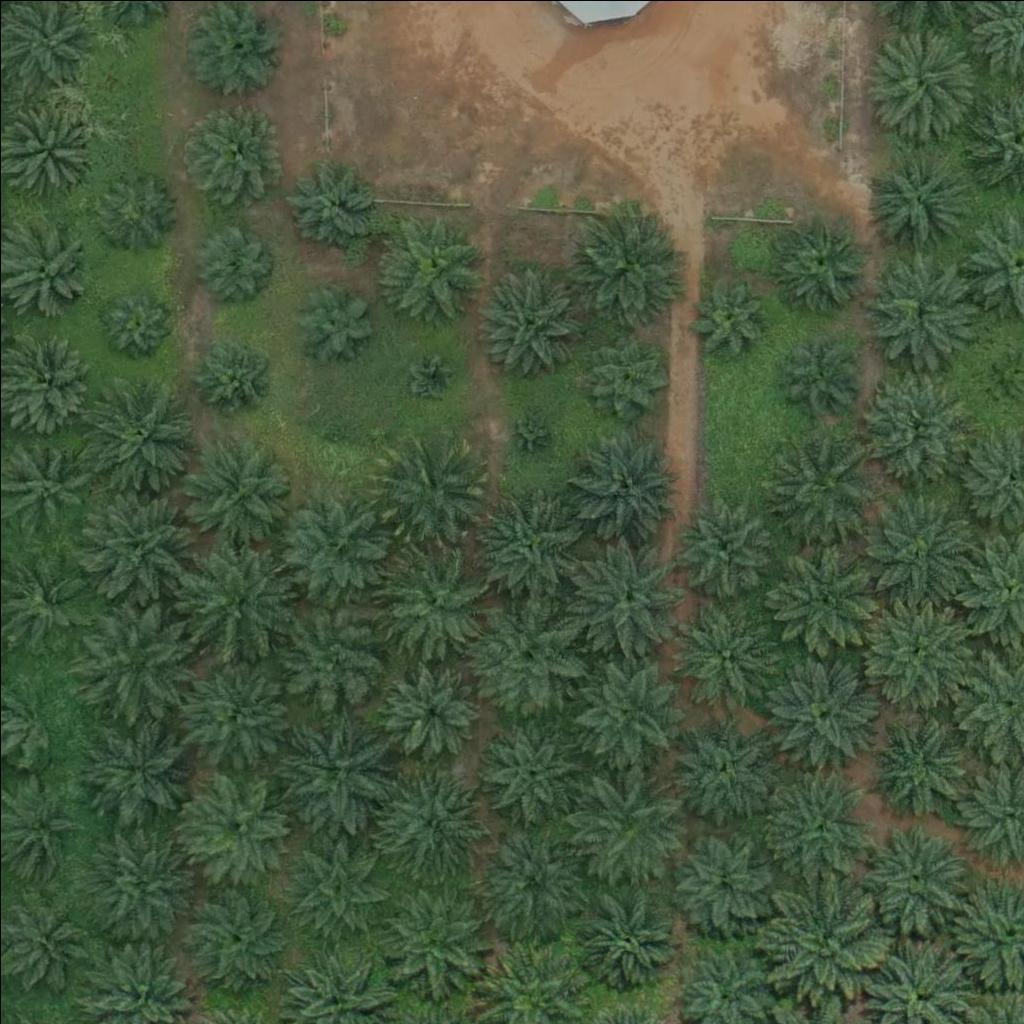Kelapa_Sawit: (375, 881, 488, 995), (83, 386, 196, 500), (180, 655, 293, 769), (183, 545, 296, 659), (282, 826, 395, 940), (280, 716, 393, 830), (372, 761, 485, 875), (858, 372, 971, 486), (767, 883, 880, 996), (178, 436, 291, 549), (276, 596, 389, 709), (568, 652, 681, 765), (568, 539, 681, 652), (565, 424, 678, 537), (670, 603, 783, 716), (854, 592, 967, 705), (860, 497, 973, 610), (864, 249, 977, 362), (860, 145, 973, 258), (860, 22, 973, 135), (565, 211, 678, 324), (80, 605, 192, 719), (78, 488, 190, 602), (374, 210, 486, 324), (375, 435, 487, 548), (477, 824, 589, 937), (180, 884, 292, 997), (81, 827, 193, 940), (82, 712, 194, 825), (182, 769, 294, 882), (272, 489, 384, 602), (377, 545, 489, 658), (477, 599, 589, 712), (473, 492, 585, 605), (574, 770, 686, 883), (762, 766, 874, 879), (765, 655, 877, 768), (760, 543, 872, 656), (761, 436, 873, 549), (855, 821, 967, 934), (473, 261, 585, 374), (672, 826, 772, 927), (572, 884, 672, 985), (380, 660, 480, 761), (478, 719, 578, 820), (672, 722, 772, 823), (671, 495, 771, 596), (862, 716, 962, 817), (178, 103, 278, 203), (774, 217, 862, 306), (281, 163, 369, 251), (579, 328, 666, 416), (288, 278, 375, 366), (189, 328, 276, 416), (192, 219, 279, 307), (90, 164, 177, 252), (778, 330, 853, 406), (692, 280, 767, 355), (99, 285, 174, 360), (501, 407, 551, 458), (407, 351, 457, 402), (310, 415, 360, 465)
